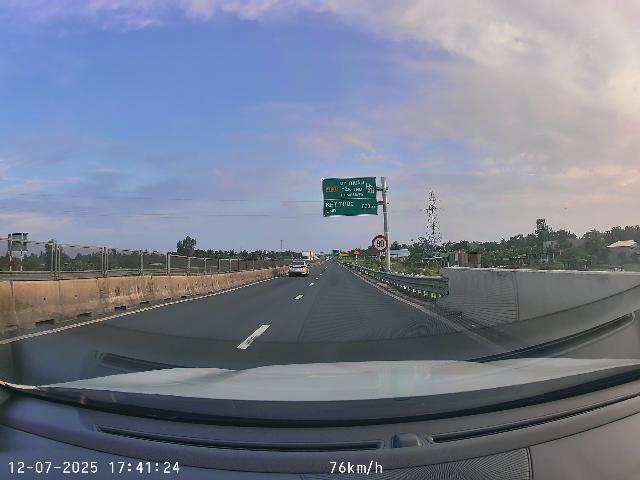127-toc-do-toi-da-90: (371, 235, 389, 252)
438-ket-thuc-duong-cao-toc: (366, 183, 374, 193)
